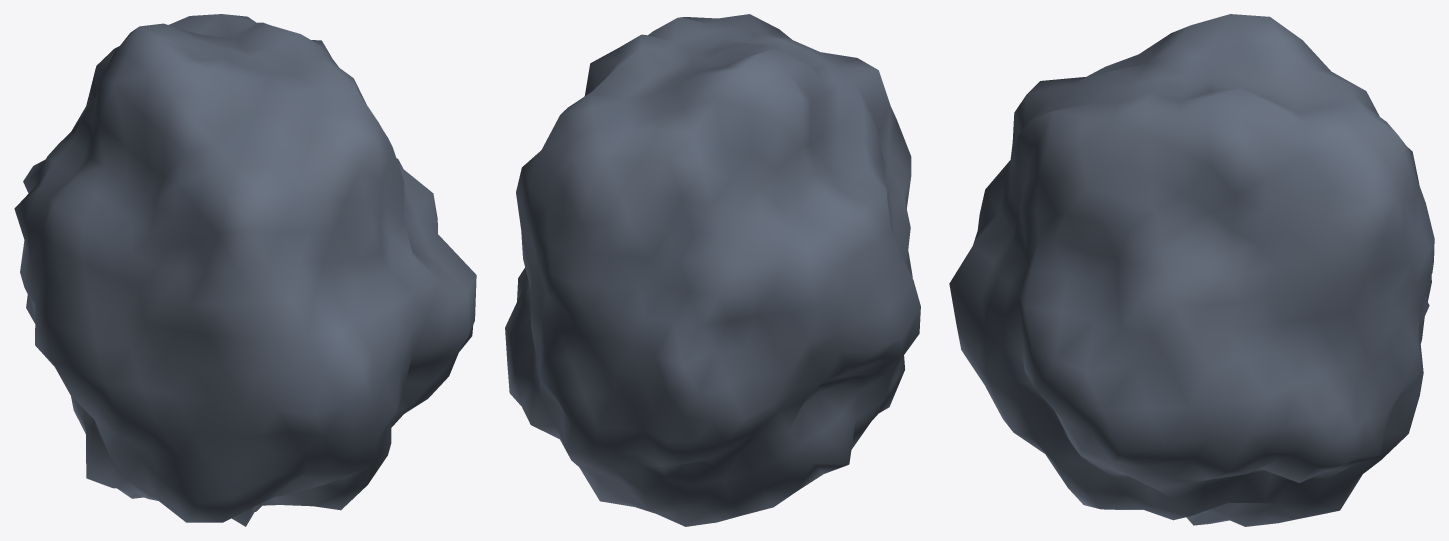
The model's file is asteroid_04.glb.
The picture shows the model from 3 angles, left to right: view 1: azimuth 30°, elevation 25°; view 2: azimuth 150°, elevation 25°; view 3: azimuth 270°, elevation 25°; orthographic projection. The views are drawn at different scales.
Parts seen in each view (by area): view 1: Asteroid_04; view 2: Asteroid_04; view 3: Asteroid_04.
Part boxes in pixels (left/top/right/bottom): Asteroid_04: left=14, top=14, right=476, bottom=526; Asteroid_04: left=505, top=14, right=920, bottom=526; Asteroid_04: left=949, top=14, right=1434, bottom=526.
Size of the model in its own units: 1.96 by 2.36 by 2.16.
